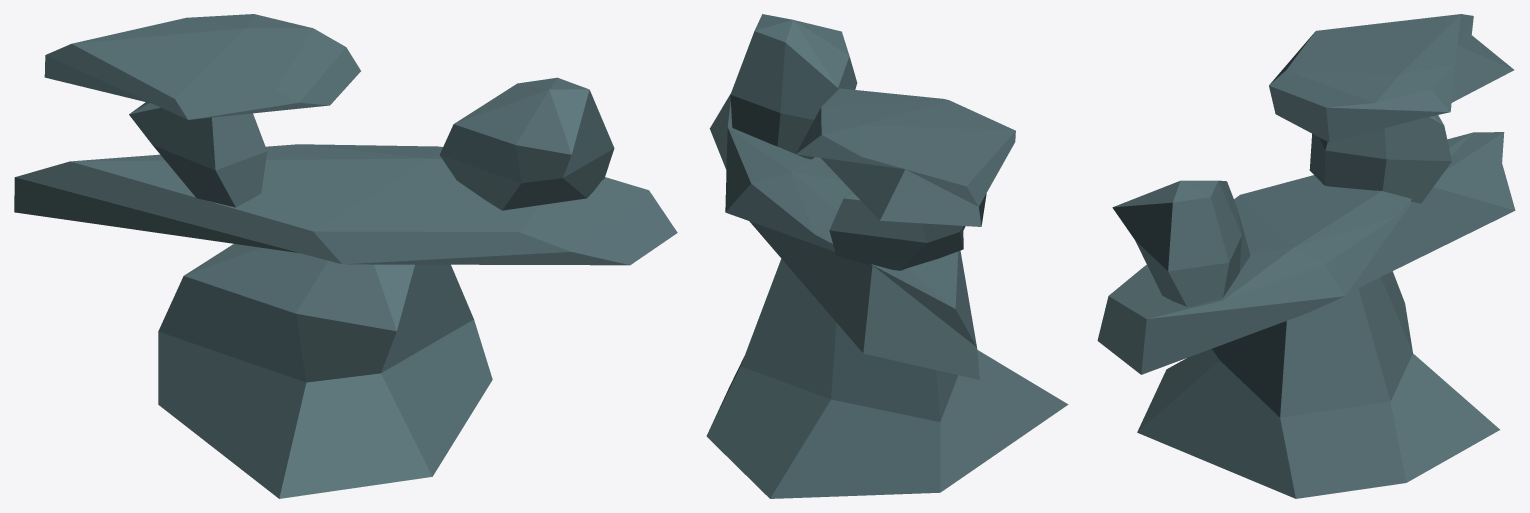
File: rock1.glb
3 renders of one model, left to right at view 1: azimuth 30°, elevation 25°; view 2: azimuth 150°, elevation 25°; view 3: azimuth 270°, elevation 25°, orthographic. The views are drawn at different scales.
Visible parts, largest first — view 1: камень1; view 2: камень1; view 3: камень1.
Part boxes in pixels (bbox=[...]): камень1: bbox=[14, 14, 677, 498]; камень1: bbox=[706, 14, 1068, 498]; камень1: bbox=[1097, 14, 1515, 498].
Bounding box in the file's own units: 0.9635 × 0.6983 × 0.7863.
1 material, 1 textured.
